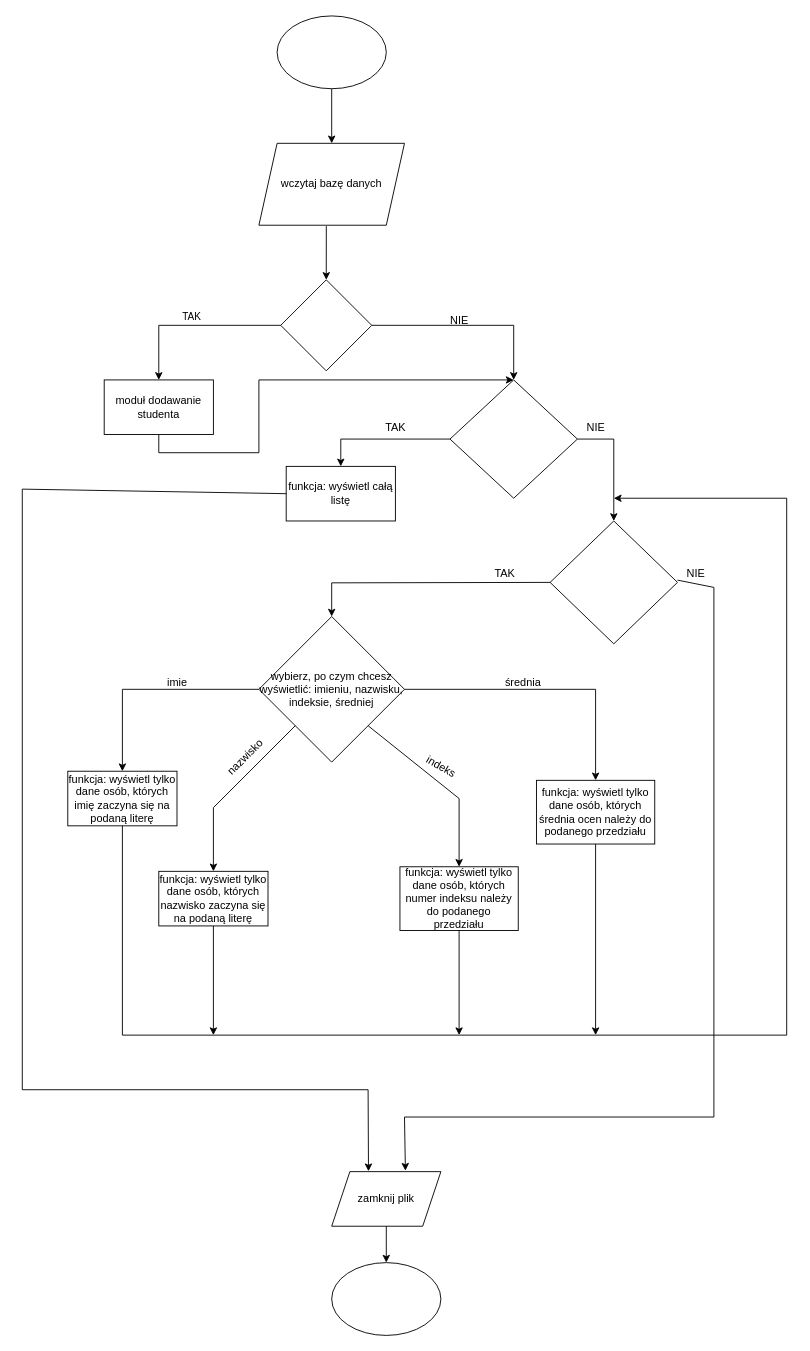
Some shapes in this 810 by 1351 pixel diagram are drawn without their labels. The shapes that lost their labels are listed below. From the top down, each one's box as (x1, y1, x2, y2) in pixels, then its label:
(276, 15, 386, 89): START
(280, 279, 372, 371): czy lista jest pusta?
(449, 379, 577, 498): czy chcesz wyświetlić całą listę?
(549, 520, 677, 644): czy chcesz wyświetlić pojedynczy fragment listy?
(331, 1262, 441, 1335): zakończ funkcję
